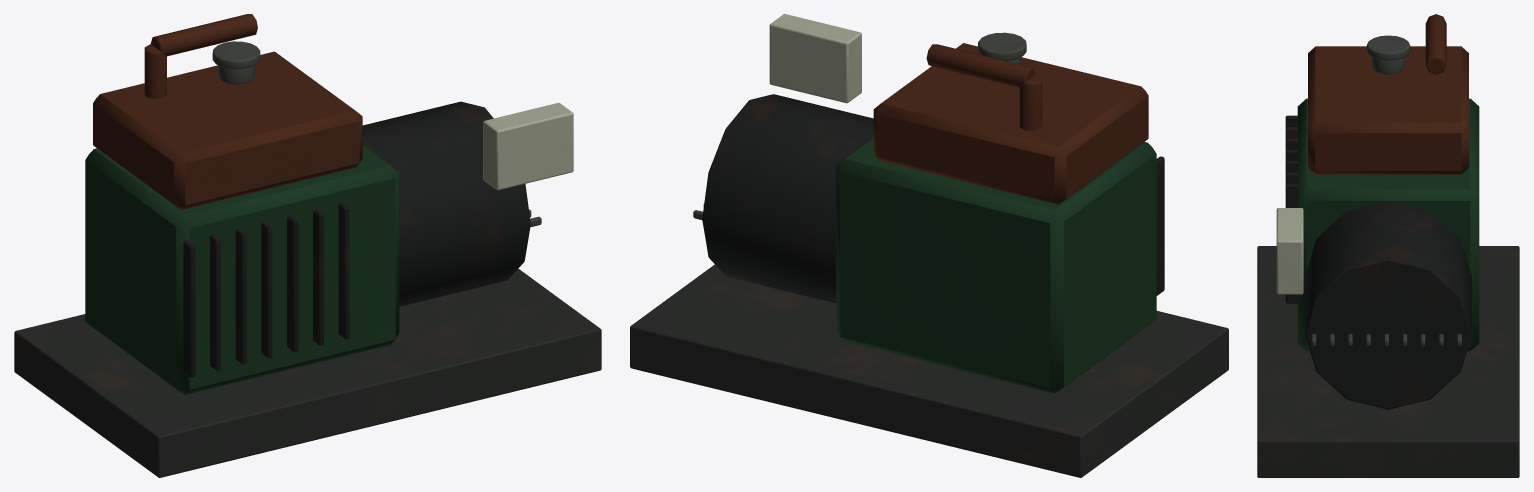
File: level_hc_native_084_0.glb
3 views of the same model, side by side, from view 1: azimuth 30°, elevation 25°; view 2: azimuth 150°, elevation 25°; view 3: azimuth 270°, elevation 25° (orthographic). The views are drawn at different scales.
Parts seen in each view (by area): view 1: level_hc_native_084_0; view 2: level_hc_native_084_0; view 3: level_hc_native_084_0.
Boxes of the visible parts, x1,y1,x2,y2 form: level_hc_native_084_0: [14, 14, 601, 477]; level_hc_native_084_0: [630, 14, 1228, 477]; level_hc_native_084_0: [1257, 14, 1519, 477].
Size of the model in its own units: 1.55 by 1.15 by 0.88.
Materials: 1 (1 with a texture image).
